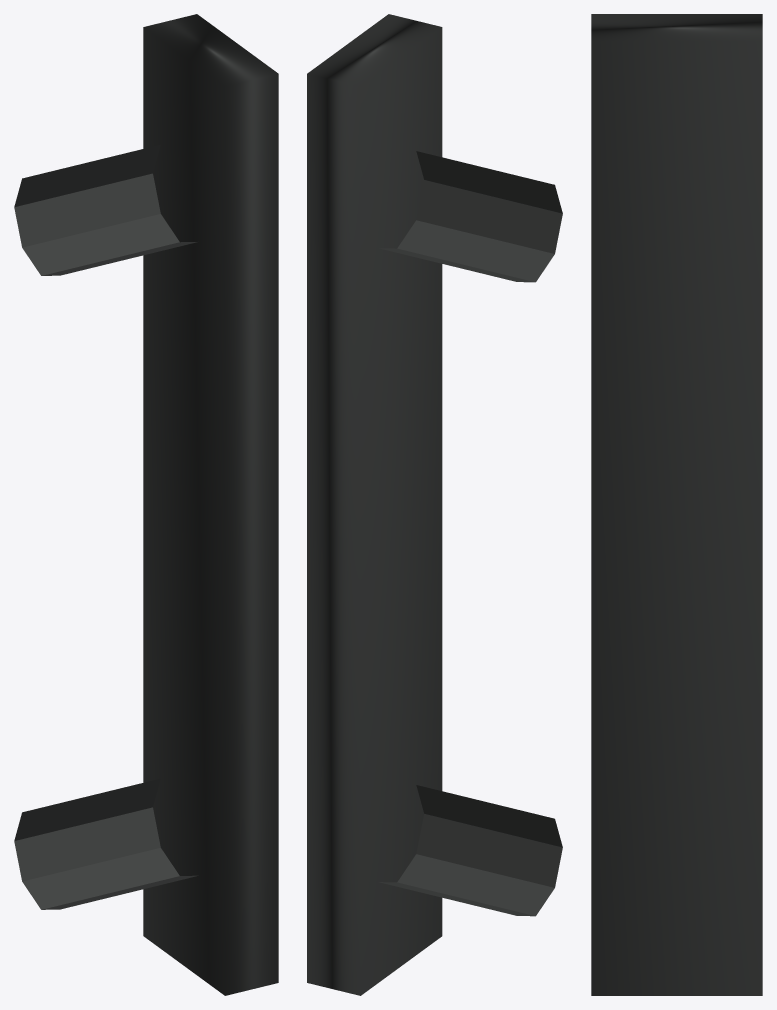
The model's file is BuzdolabıKulp.fbx.
3 renders of one model, left to right at view 1: azimuth 30°, elevation 25°; view 2: azimuth 150°, elevation 25°; view 3: azimuth 270°, elevation 25°, orthographic. The views are drawn at different scales.
Visible parts, largest first — view 1: Cube.014; view 2: Cube.014; view 3: Cube.014.
Part boxes in pixels (x1=…): Cube.014: x1=14, y1=14, x2=278, y2=995; Cube.014: x1=307, y1=14, x2=562, y2=995; Cube.014: x1=591, y1=14, x2=762, y2=995.
Bounding box in the file's own units: 11.32 × 51.14 × 8.33.
Materials: 1 (1 with a texture image).
